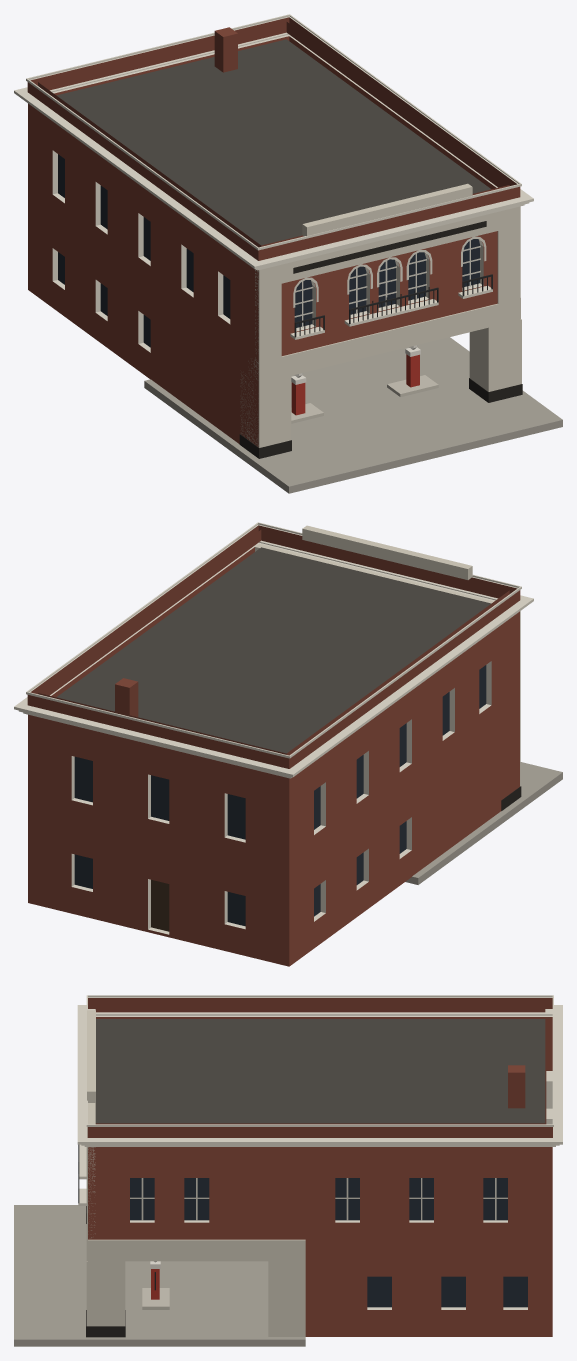
Rendered from pulaski-heights-masonic-lodge-673.glb.
3 views of the same model, one above another, from view 1: azimuth 30°, elevation 25°; view 2: azimuth 150°, elevation 25°; view 3: azimuth 270°, elevation 25° (orthographic).
Visible parts, largest first — view 1: pulaski_brick, pulaski_roof, pulaski_conc, pulaski_stucco, pulaski_trim, pulaski_brick2, pulaski_glass, pulaski_shadow, pulaski_iron, pulaski_lead, pulaski_kerb, pulaski_pump; view 2: pulaski_brick, pulaski_roof, pulaski_brick2, pulaski_trim, pulaski_glass, pulaski_stucco, pulaski_conc, pulaski_door; view 3: pulaski_brick, pulaski_roof, pulaski_conc, pulaski_brick2, pulaski_trim, pulaski_stucco, pulaski_glass, pulaski_lead, pulaski_shadow, pulaski_kerb.
Part boxes in pixels (x1,y1,x2,y2): pulaski_brick: (28, 36, 497, 447); pulaski_roof: (56, 39, 490, 245); pulaski_conc: (144, 337, 562, 493); pulaski_stucco: (240, 183, 521, 447); pulaski_trim: (14, 14, 533, 352); pulaski_brick2: (27, 17, 520, 260); pulaski_glass: (58, 154, 479, 347); pulaski_shadow: (239, 221, 522, 458); pulaski_iron: (294, 274, 492, 337); pulaski_lead: (294, 240, 480, 327); pulaski_kerb: (291, 375, 438, 423); pulaski_pump: (291, 354, 419, 415); pulaski_brick: (28, 547, 519, 966); pulaski_roof: (56, 547, 491, 753); pulaski_brick2: (27, 525, 520, 768); pulaski_trim: (14, 522, 533, 934); pulaski_glass: (74, 665, 486, 926); pulaski_stucco: (255, 525, 520, 786); pulaski_conc: (405, 762, 562, 884); pulaski_door: (151, 879, 169, 931); pulaski_brick: (88, 1017, 552, 1336); pulaski_roof: (95, 1019, 545, 1123); pulaski_conc: (14, 1205, 305, 1346); pulaski_brick2: (87, 998, 552, 1137); pulaski_trim: (77, 995, 562, 1309); pulaski_stucco: (86, 1010, 305, 1336); pulaski_glass: (130, 1178, 527, 1307); pulaski_lead: (130, 1178, 507, 1220); pulaski_shadow: (86, 1206, 125, 1337); pulaski_kerb: (142, 1288, 169, 1309).
Bounding box in the file's own units: 13.14 × 10.5 × 22.22.
